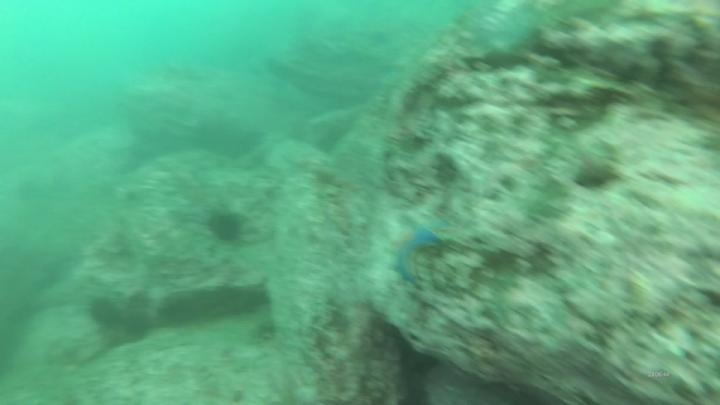echinus: (83, 291, 130, 333), (206, 206, 254, 247)
starfish: (389, 218, 449, 293)
